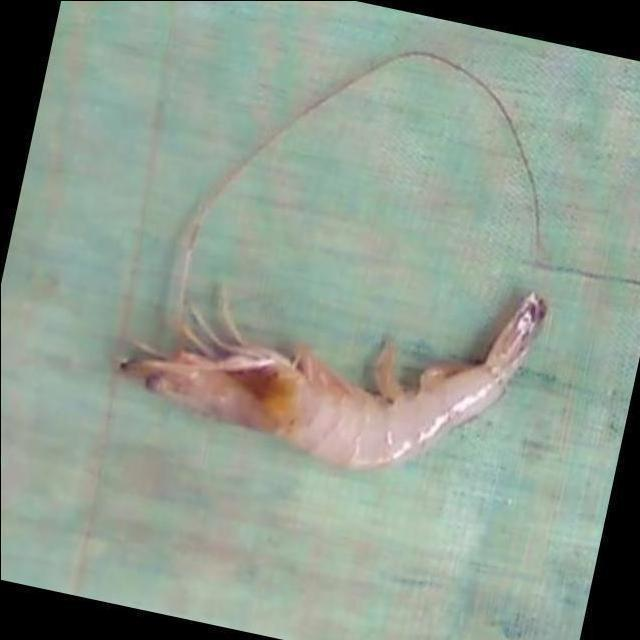shrimp: (118, 293, 547, 469)
